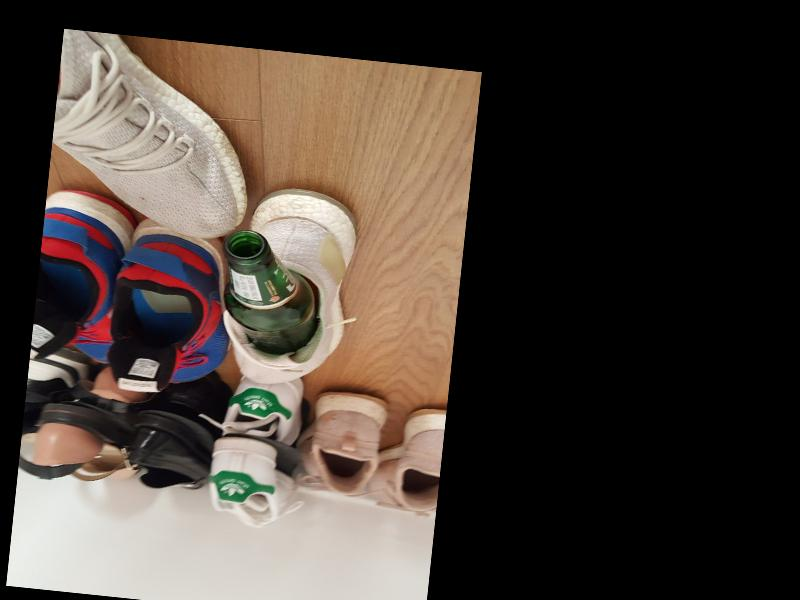Beer: (215, 228, 324, 356)
